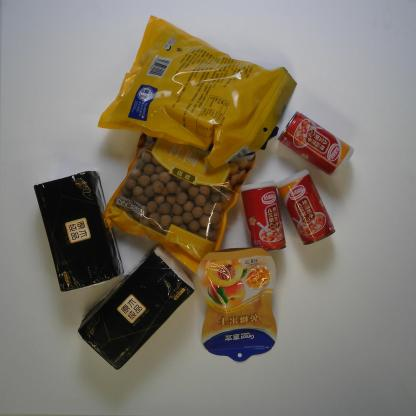Canned Food: (277, 110, 355, 178), (274, 167, 338, 249), (240, 179, 288, 255)
Dried Food: (94, 13, 299, 172), (101, 121, 281, 279)
Dried Fruit: (196, 247, 279, 363)
Tissue: (73, 242, 196, 373), (30, 170, 123, 292)
